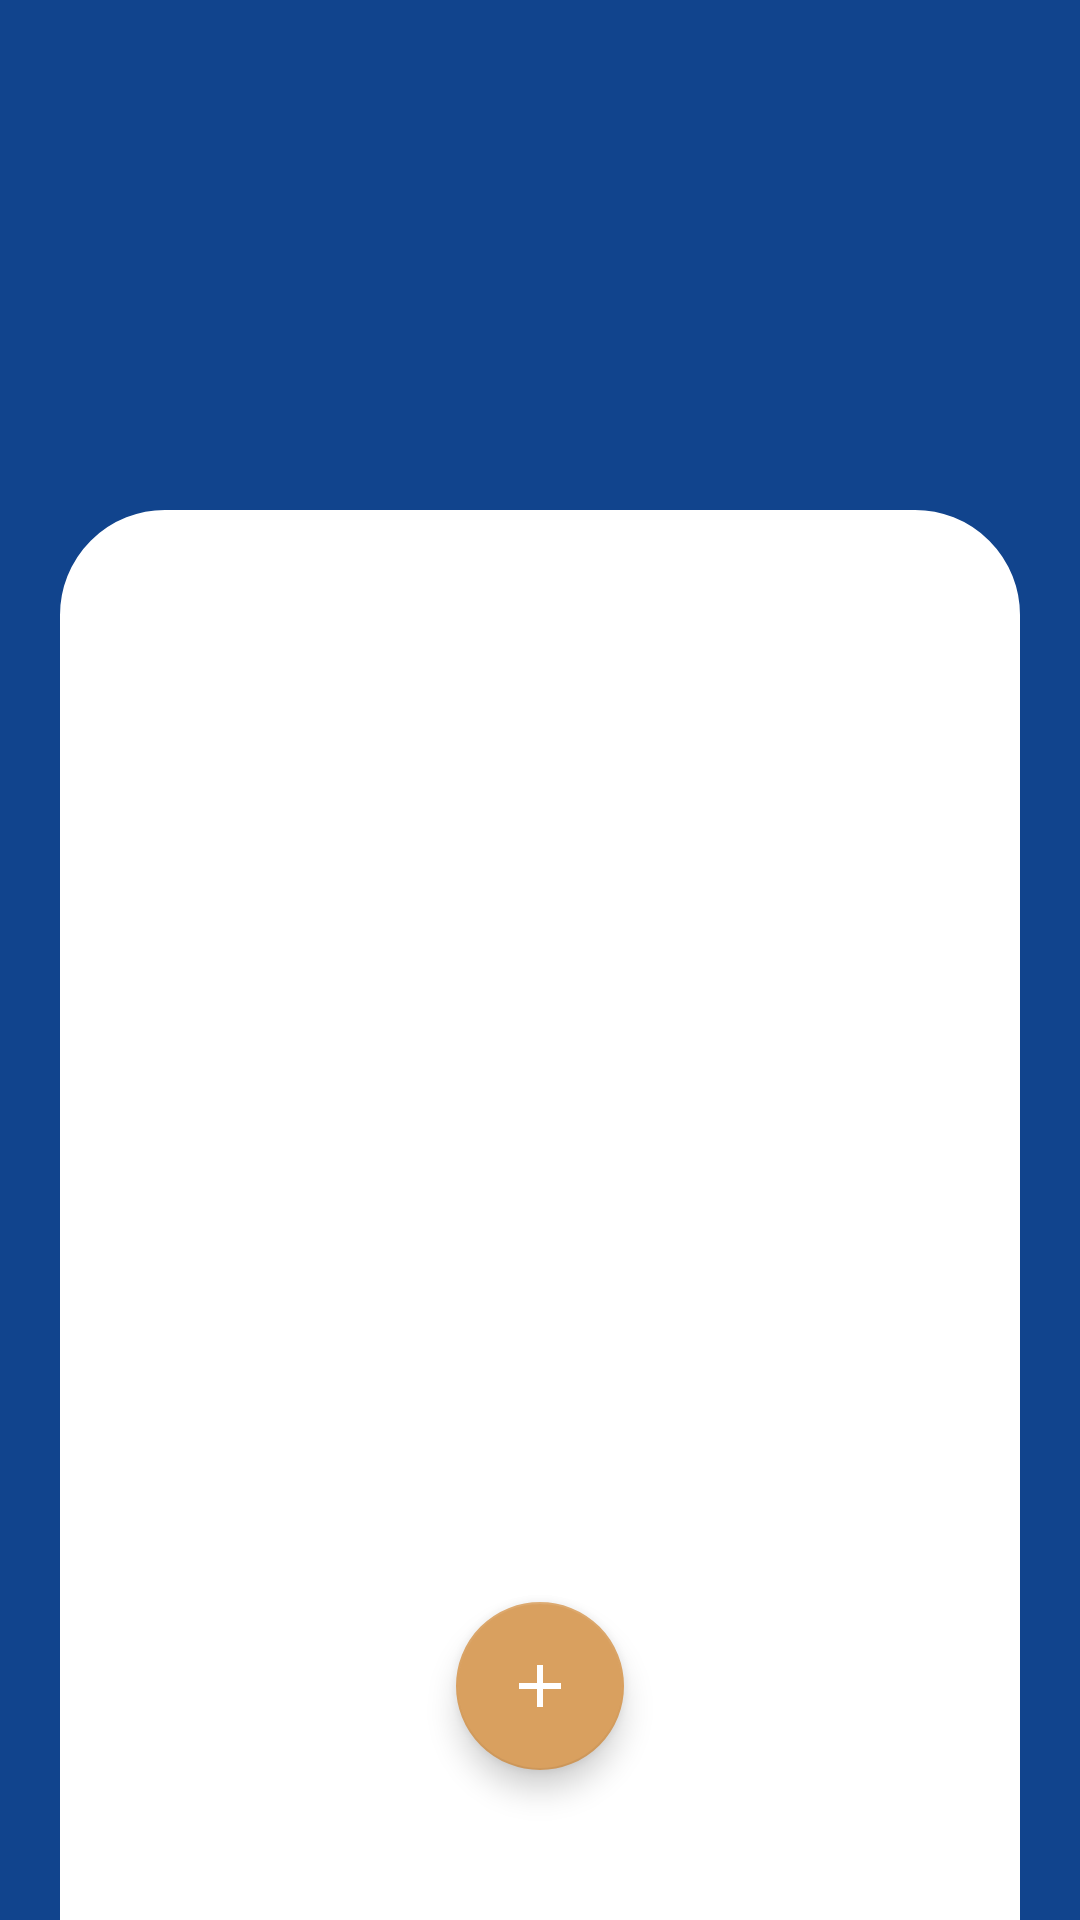

Icon bounding boxes for this 1080x1920 phone screenshot, format (x1, y1, x2, y2):
add: (456, 1602, 624, 1770)
